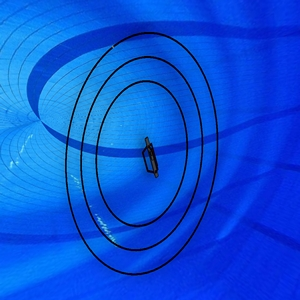circle: (62, 29, 221, 278)
submarine: (135, 132, 167, 184)
